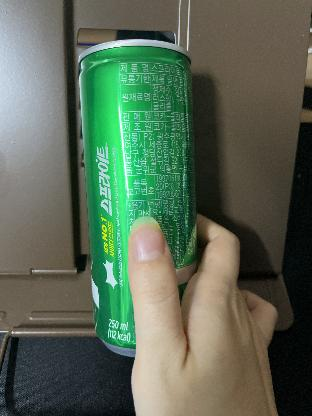Can: (76, 39, 199, 343)
